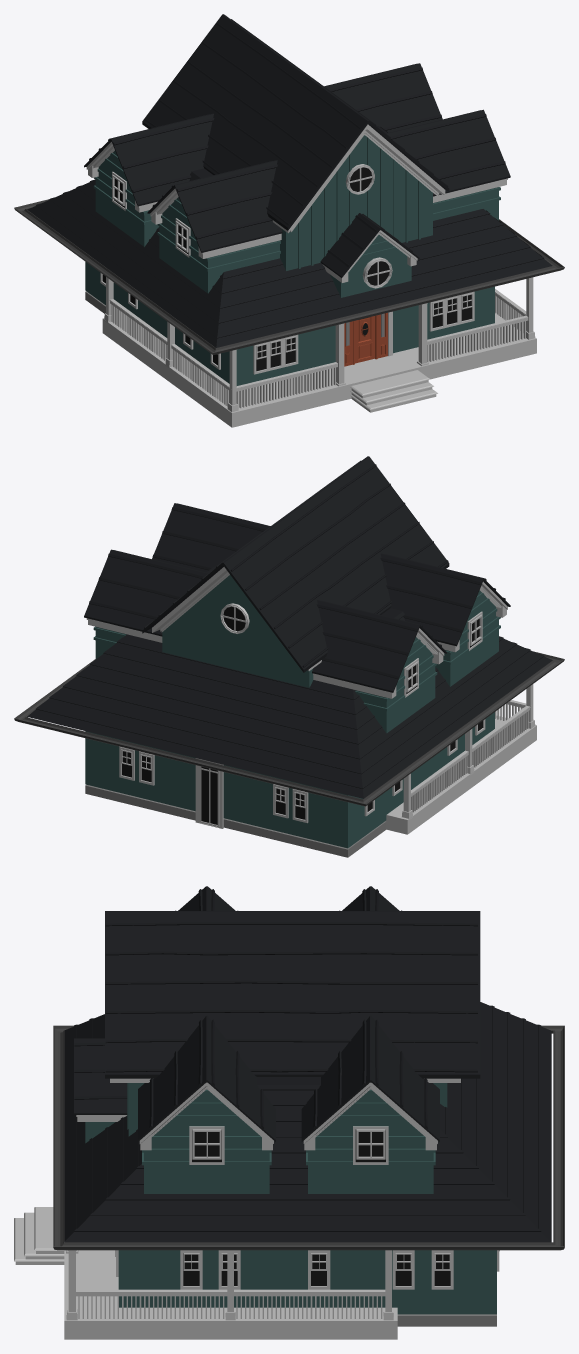
Rendered from SM_house_suburb_006.fbx.
3 views of the same model, one above another, from view 1: azimuth 30°, elevation 25°; view 2: azimuth 150°, elevation 25°; view 3: azimuth 270°, elevation 25° (orthographic). The views are drawn at different scales.
Visible parts, largest first — view 1: Box5825; view 2: Box5825; view 3: Box5825.
Part boxes in pixels (x1,y1,x2,y2): Box5825: [14, 14, 564, 427]; Box5825: [14, 456, 564, 857]; Box5825: [14, 886, 564, 1339].
Bounding box in the file's own units: 705 × 495 × 742.
